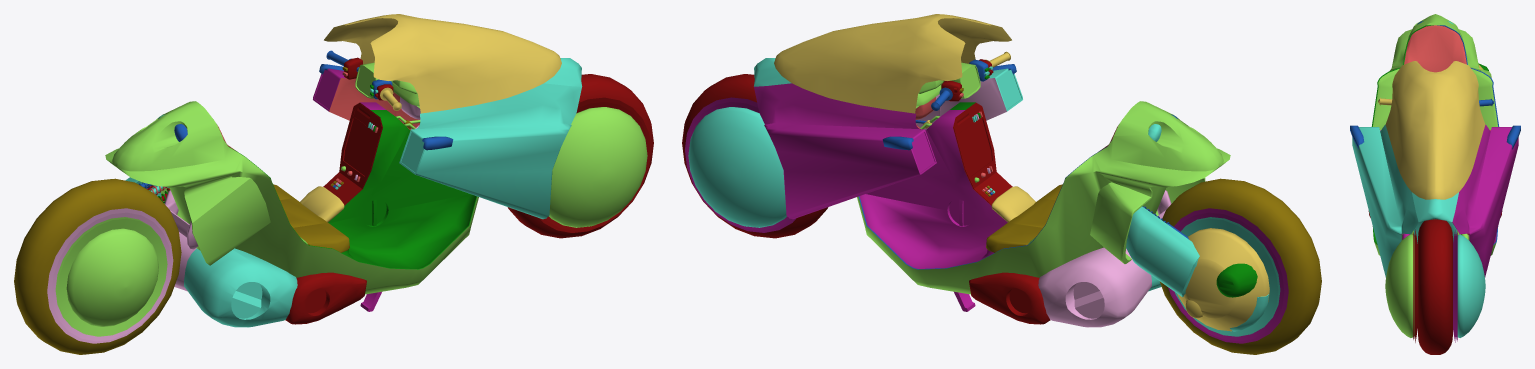
The model's file is akira-bike-1.obj.
3 renders of one model, left to right at view 1: azimuth 30°, elevation 25°; view 2: azimuth 150°, elevation 25°; view 3: azimuth 270°, elevation 25°, orthographic. The views are drawn at different scales.
Visible parts, largest first — view 1: base_001, shield_right_001, tint_001, floorboard_001, wh1_002, wh_bump_logo_001, back_bump_001, turbine_001, wh_light_003, wh_light_005, navigation_001, cell_charger_001 (+9 smaller); view 2: base_001, shield_left_001, tint_001, floorboard_002, wh1_002, wh_bump_001, turbine_002, drive_bump_001, protector_001, navigation_001, cell_charger_002, wh_light_004 (+10 smaller); view 3: tint_001, shield_right_001, shield_left_001, wh1_001, wh_bump_logo_001, wh_bump_001, scale_001, base_001, front_shield_001, scale_1_001, scale_1_002, wh_light_006 (+5 smaller).
Boxes of the visible parts, x1,y1,x2,y2 form: base_001: [105, 101, 478, 294]; shield_right_001: [399, 83, 581, 219]; tint_001: [324, 14, 561, 113]; floorboard_001: [328, 110, 476, 268]; wh1_002: [14, 178, 181, 354]; wh_bump_logo_001: [549, 107, 647, 227]; back_bump_001: [66, 228, 158, 326]; turbine_001: [184, 248, 297, 327]; wh_light_003: [55, 217, 167, 336]; wh_light_005: [47, 208, 173, 343]; navigation_001: [323, 102, 382, 205]; cell_charger_001: [285, 272, 366, 324]; base_001: [857, 101, 1230, 294]; shield_left_001: [754, 83, 936, 219]; tint_001: [774, 14, 1011, 113]; floorboard_002: [859, 110, 1007, 268]; wh1_002: [1160, 178, 1321, 354]; wh_bump_001: [688, 107, 786, 227]; turbine_002: [1038, 247, 1151, 327]; drive_bump_001: [1177, 228, 1269, 331]; protector_001: [1126, 206, 1199, 297]; navigation_001: [953, 102, 1012, 205]; cell_charger_002: [969, 272, 1050, 324]; wh_light_004: [1168, 208, 1288, 343]; tint_001: [1385, 61, 1485, 199]; shield_right_001: [1352, 124, 1418, 277]; shield_left_001: [1452, 124, 1518, 277]; wh1_001: [1418, 219, 1452, 354]; wh_bump_logo_001: [1385, 234, 1414, 337]; wh_bump_001: [1457, 234, 1485, 337]; scale_001: [1404, 25, 1466, 72]; base_001: [1374, 14, 1496, 255]; front_shield_001: [1412, 192, 1458, 243]; scale_1_001: [1373, 69, 1399, 129]; scale_1_002: [1471, 69, 1497, 129]; wh_light_006: [1453, 230, 1457, 342].
Size of the model in its own units: 3001 by 1201 by 875.
